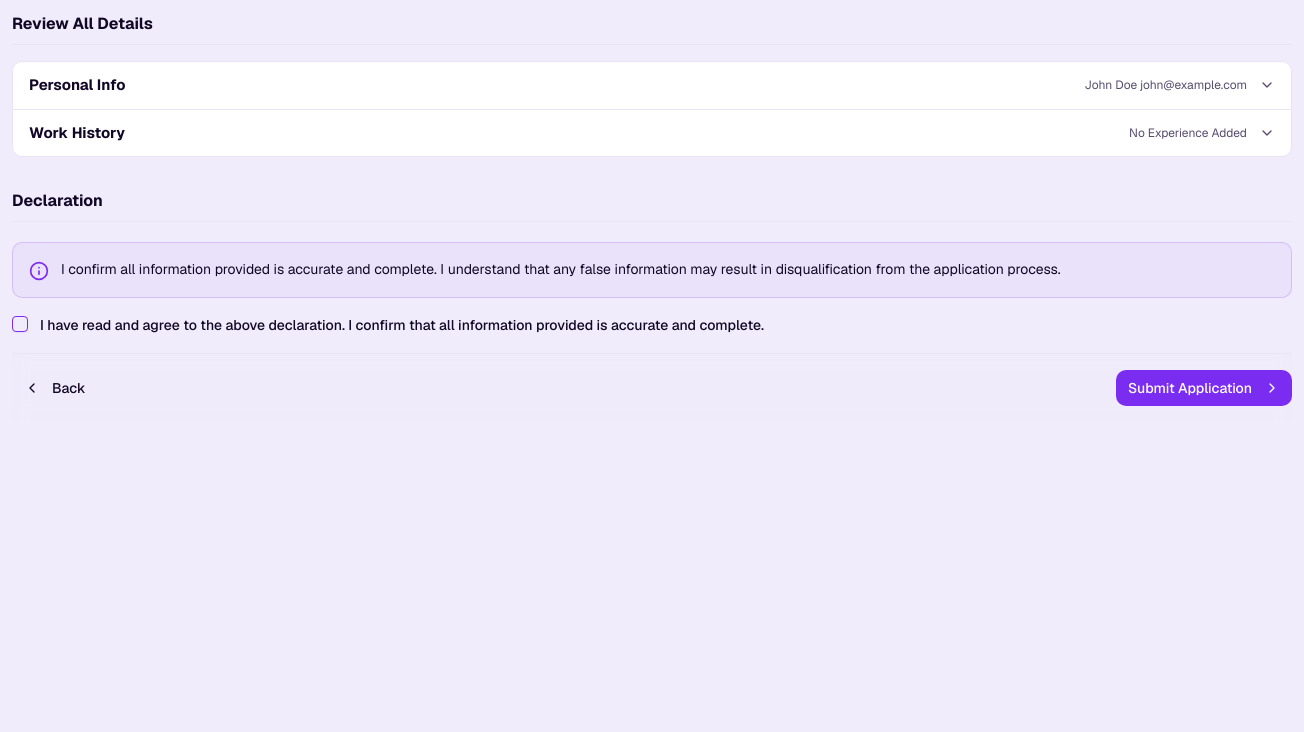
Test case: JobApplicationReviewStep › does not show missing fields warning initially when isCampus=true, but shows it on submit click
This screenshot has width=1304, height=732.
Expected: the text "Please complete all required fields before submitting." is not shown
Click the button "Submit Application" at x=1204, y=388, box [1116,370,1292,406]
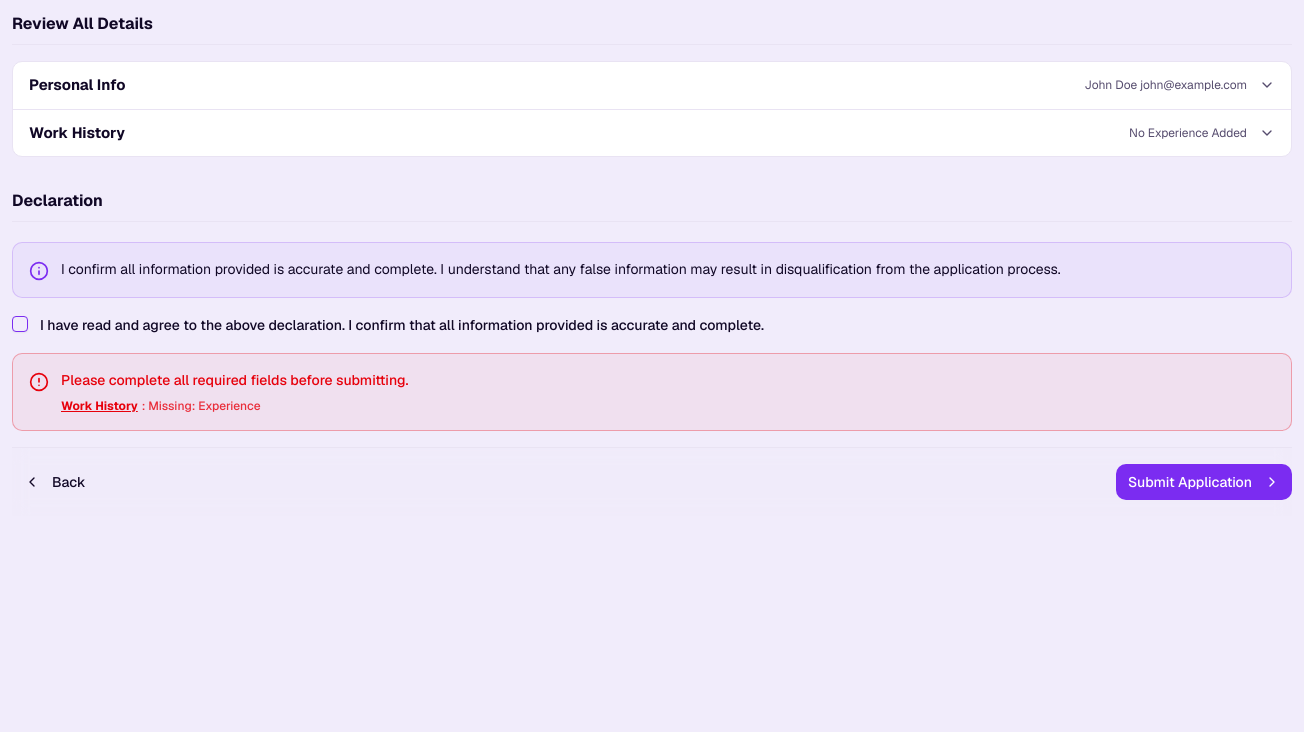
Expected: the text "Please complete all required fields before submitting." is shown, [61,370,408,390]
